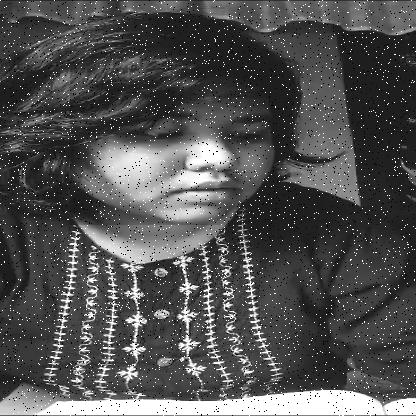Distracted: (70, 68, 278, 225)
